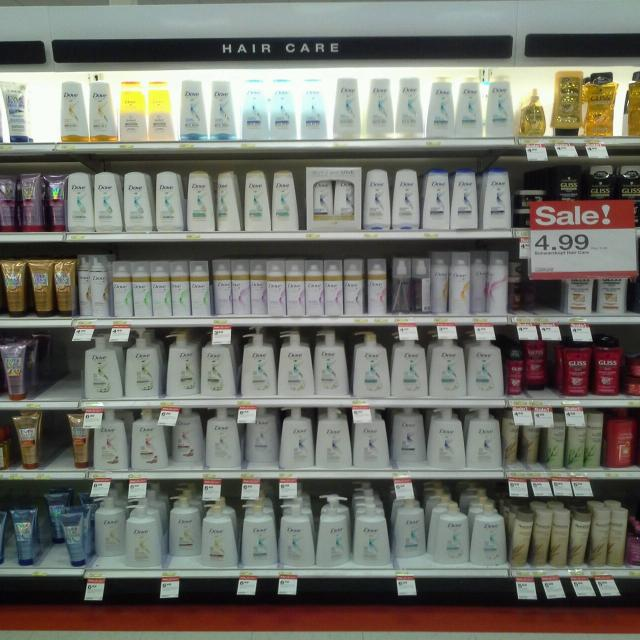void: (32, 328, 80, 399)
